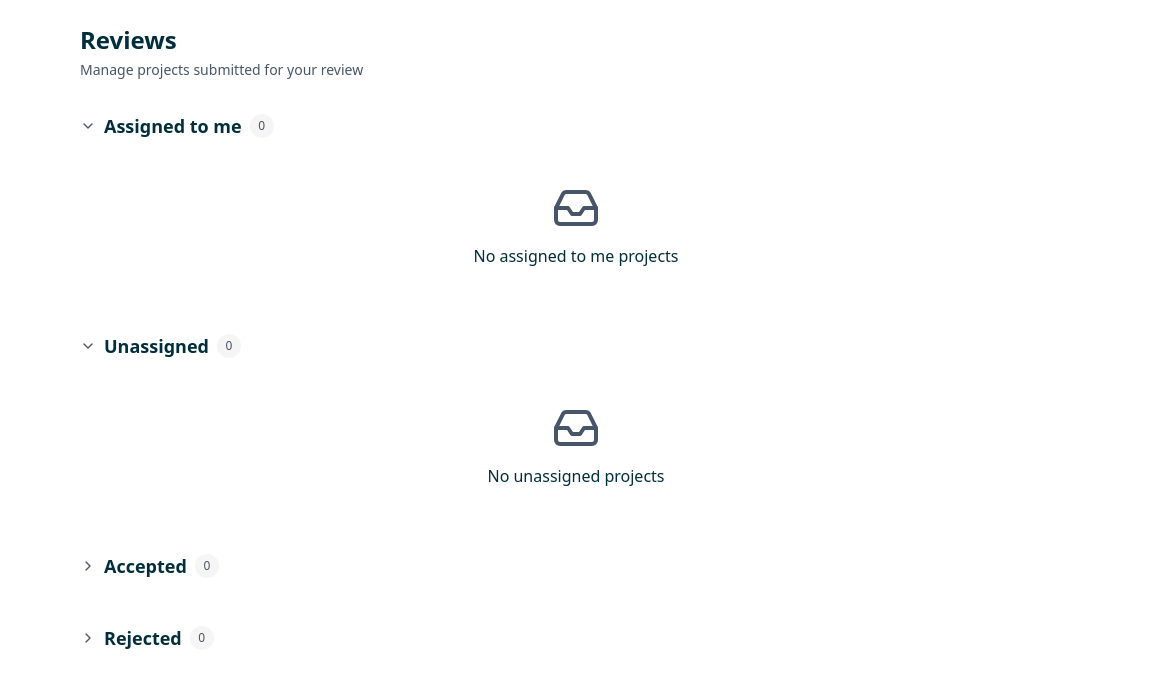
T-10.2.03: Collapsible categories › clicking an expanded category collapses it
Expected: the heading "No assigned to me projects" is shown, [474,244,678,268]
// Click to collapse
Click the heading "Assigned to me".
click(173, 126)  # box [104,112,242,140]
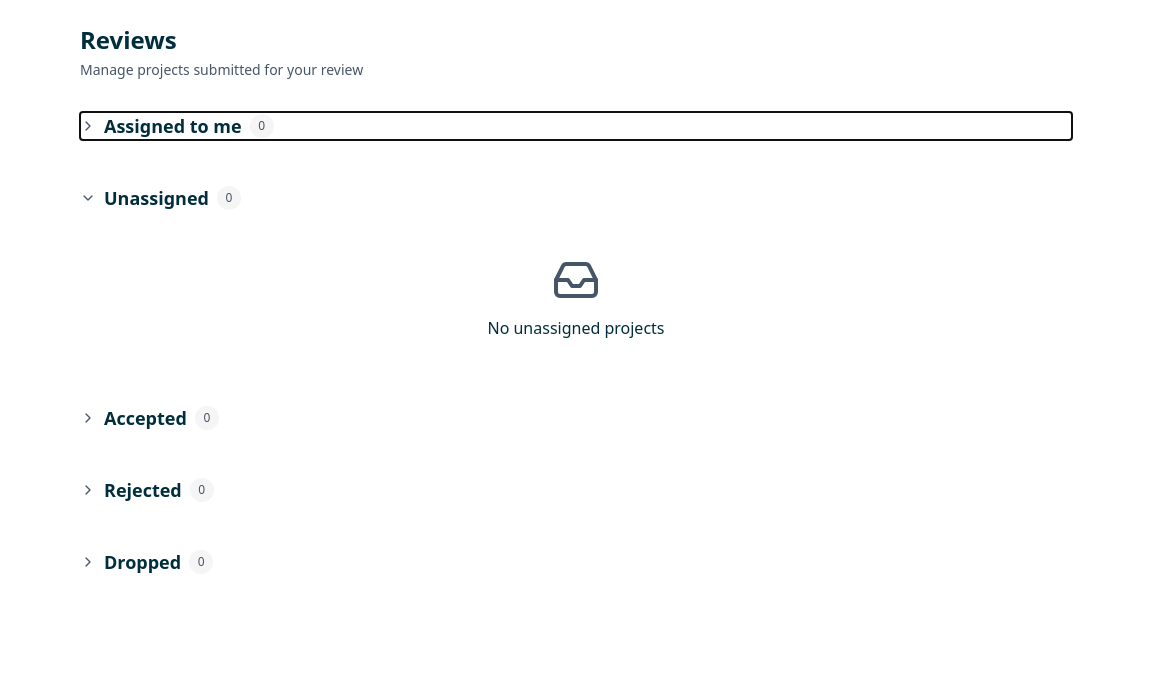
Result: the heading "No assigned to me projects" is gone
